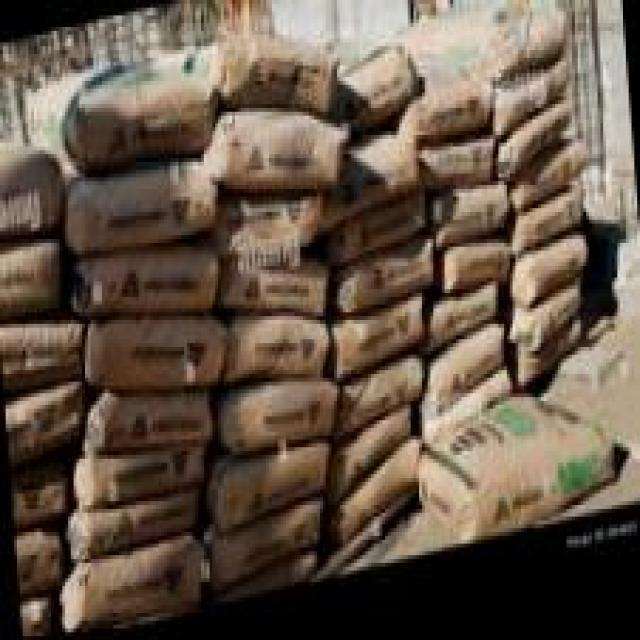gunny_bag: (414, 394, 622, 551), (34, 56, 214, 173), (67, 160, 220, 259), (61, 541, 207, 635), (159, 41, 338, 116), (316, 132, 422, 249), (206, 114, 347, 197), (205, 450, 330, 536), (327, 442, 420, 556), (81, 319, 226, 391), (71, 255, 224, 322), (211, 506, 325, 592), (217, 383, 337, 460), (66, 495, 199, 562), (84, 391, 214, 457), (71, 449, 207, 512), (327, 413, 414, 509), (336, 243, 434, 326), (332, 303, 427, 387), (324, 195, 428, 271), (336, 359, 425, 446), (426, 334, 508, 428), (214, 196, 323, 265), (338, 51, 418, 145), (222, 321, 329, 391), (5, 380, 84, 471), (214, 259, 328, 320), (419, 289, 501, 369), (494, 65, 572, 148), (0, 320, 85, 396), (506, 243, 588, 321), (497, 108, 570, 195), (399, 88, 490, 155), (505, 289, 583, 365), (510, 147, 583, 225), (428, 196, 511, 258), (436, 245, 515, 309), (512, 197, 582, 269), (0, 140, 58, 225), (0, 240, 63, 310), (11, 461, 72, 531), (421, 146, 494, 203), (15, 530, 64, 597), (20, 595, 53, 638)
